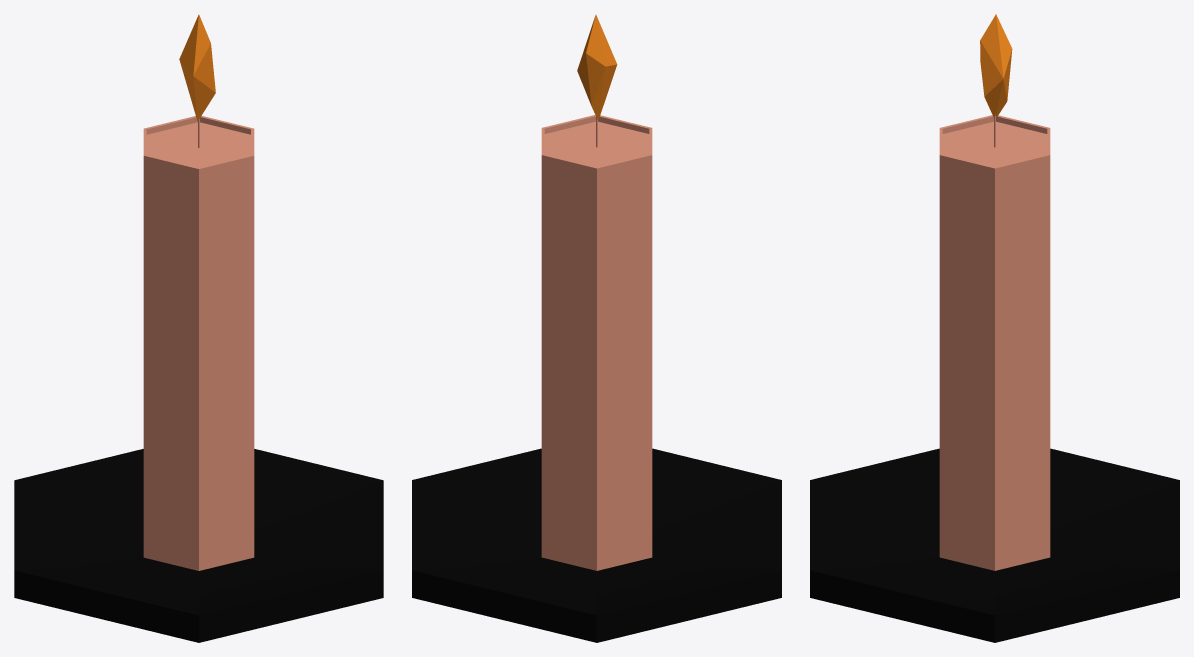
The model's file is Candle_02.fbx.
3 views of the same model, side by side, from view 1: azimuth 30°, elevation 25°; view 2: azimuth 150°, elevation 25°; view 3: azimuth 270°, elevation 25° (orthographic).
Parts seen in each view (by area): view 1: Candle_02; view 2: Candle_02; view 3: Candle_02.
Part boxes in pixels (x1=…): Candle_02: x1=14, y1=14, x2=383, y2=642; Candle_02: x1=412, y1=14, x2=781, y2=642; Candle_02: x1=810, y1=14, x2=1179, y2=642.
Size of the model in its own units: 15.95 by 22.21 by 13.81.
